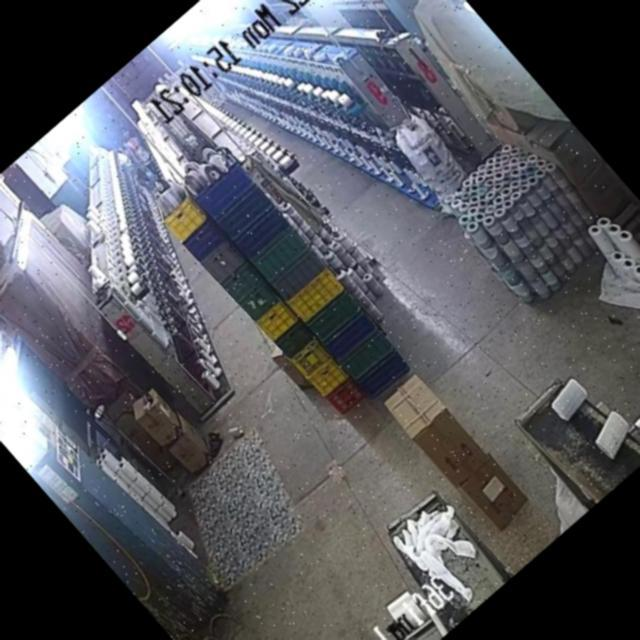person: (115, 124, 160, 172), (128, 169, 160, 203), (135, 165, 158, 190)
